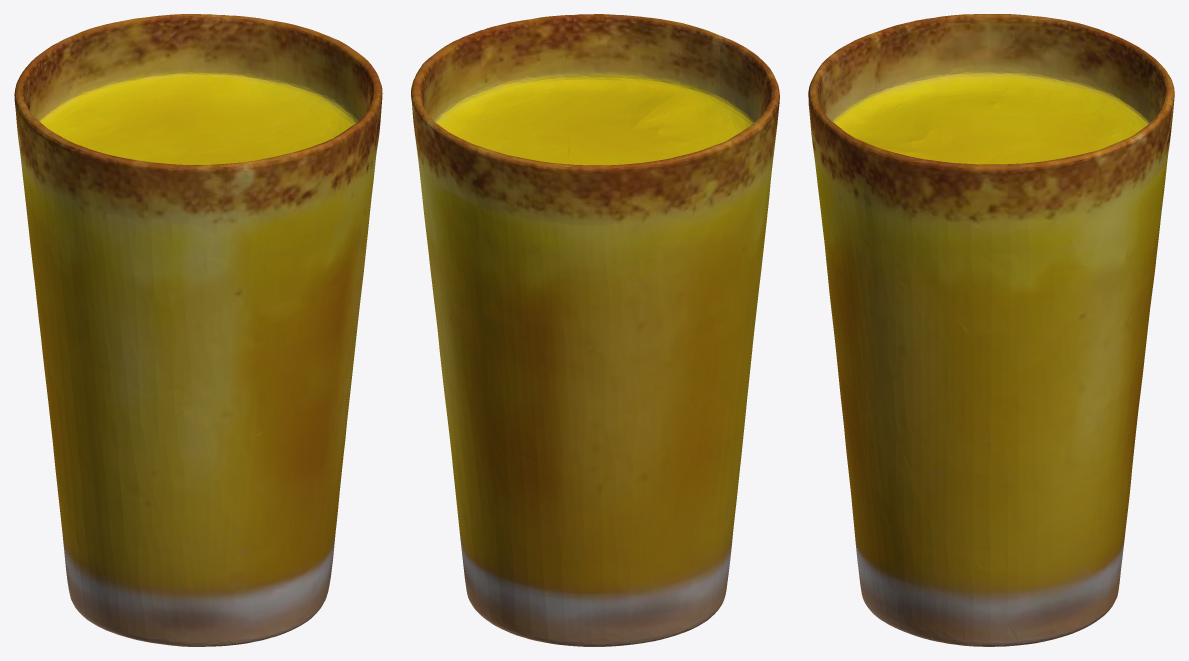
File: p_marg.glb
3 renders of one model, left to right at view 1: azimuth 30°, elevation 25°; view 2: azimuth 150°, elevation 25°; view 3: azimuth 270°, elevation 25°, orthographic.
Visible parts, largest first — view 1: geometry_0; view 2: geometry_0; view 3: geometry_0.
Boxes of the visible parts, x1,y1,x2,y2 form: geometry_0: (14,14,382,646); geometry_0: (411,14,779,646); geometry_0: (808,14,1174,646).
Size of the model in its own units: 0.6603 by 0.998 by 0.6555.
Materials: 1 (1 with a texture image).
